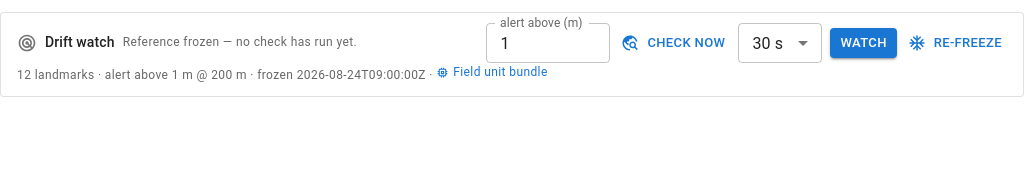
Test case: the drift section › checks a frozen reference and hands the verdict to the map
Click the button "Check now" at (674, 43), box x1=618 y1=28 x2=730 y2=58
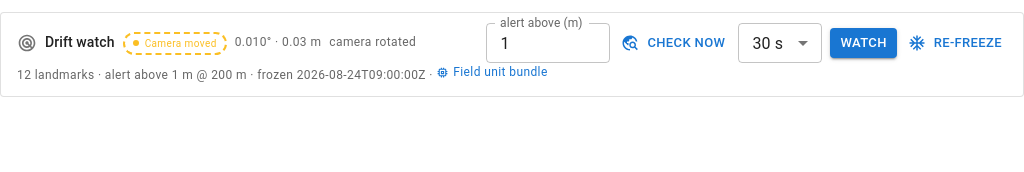
Result: the text "Camera moved" is shown at x1=123 y1=32 x2=227 y2=54
